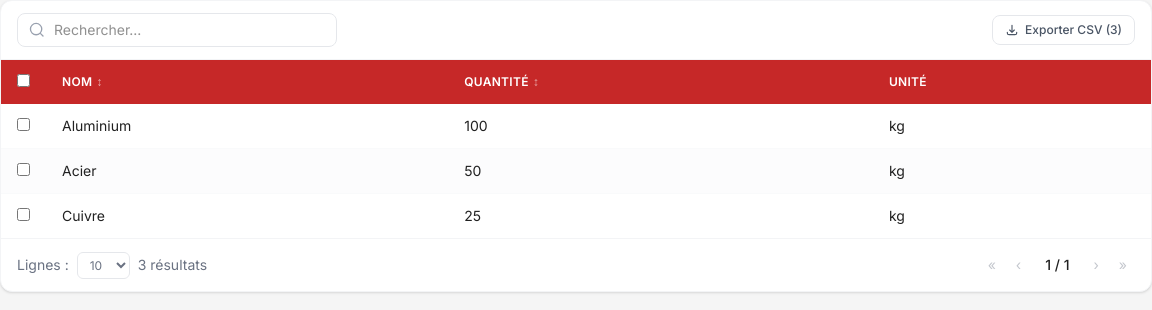
Scenario: Test 7 — tri par colonne ASC puis DESC au deuxième clic › deuxième clic → indicateur ↓ (DESC)
This screenshot has width=1152, height=310.
Click the column heading "Nom ↕" at x=77, y=82, box [46,60,448,104]
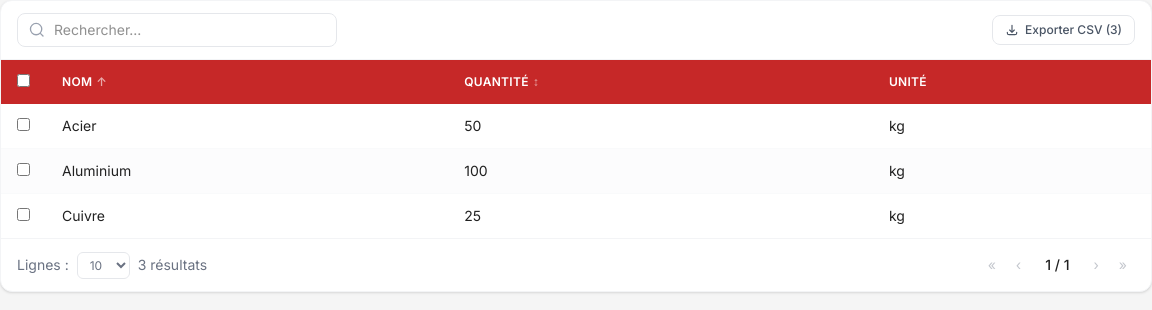
Click the column heading "Nom ↑" at x=77, y=82, box [46,60,448,104]
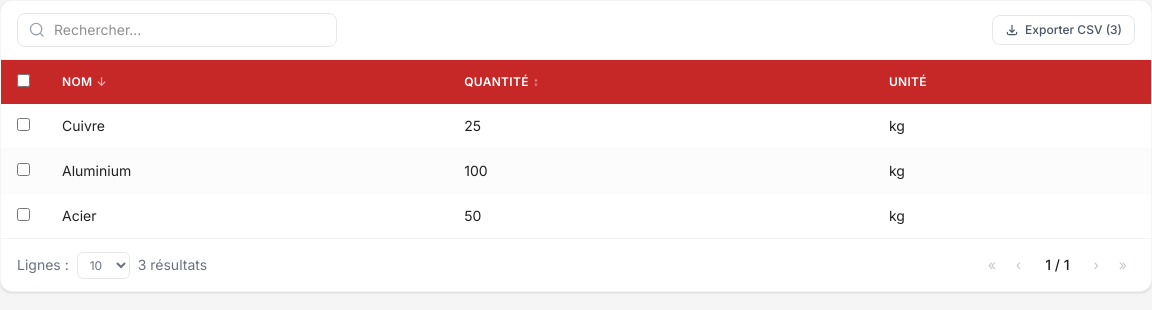
Now the text "↓" is shown, box [96,74,107,90]
